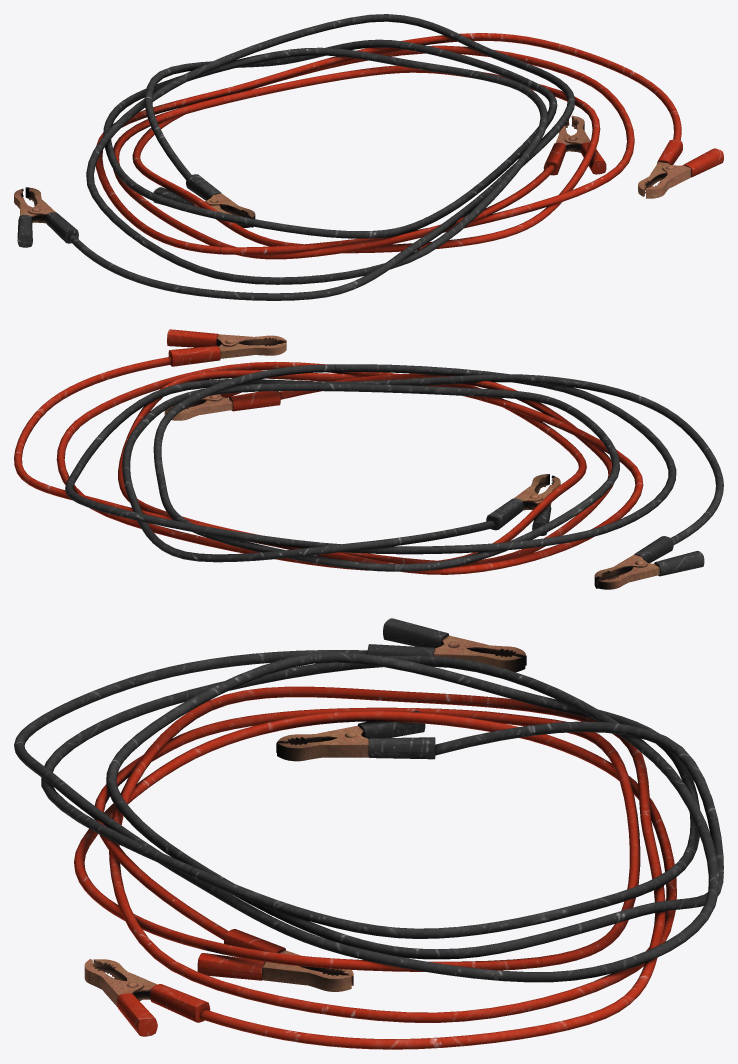
The picture shows the model from 3 angles, top to bottom: view 1: azimuth 30°, elevation 25°; view 2: azimuth 150°, elevation 25°; view 3: azimuth 270°, elevation 25°; orthographic projection. The views are drawn at different scales.
Visible parts, largest first — view 1: MRLN_Cables.Shape; view 2: MRLN_Cables.Shape; view 3: MRLN_Cables.Shape.
Part boxes in pixels (x1,y1,x2,y2): MRLN_Cables.Shape: (14,14,723,300); MRLN_Cables.Shape: (14,329,723,589); MRLN_Cables.Shape: (14,618,723,1049).
Size of the model in its own units: 1.01 by 0.065 by 0.7186.
2 materials, 2 textured.
